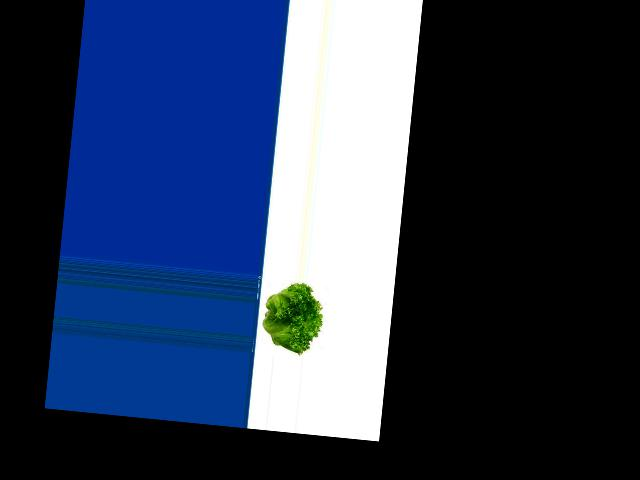lettuce: (256, 279, 328, 354)
